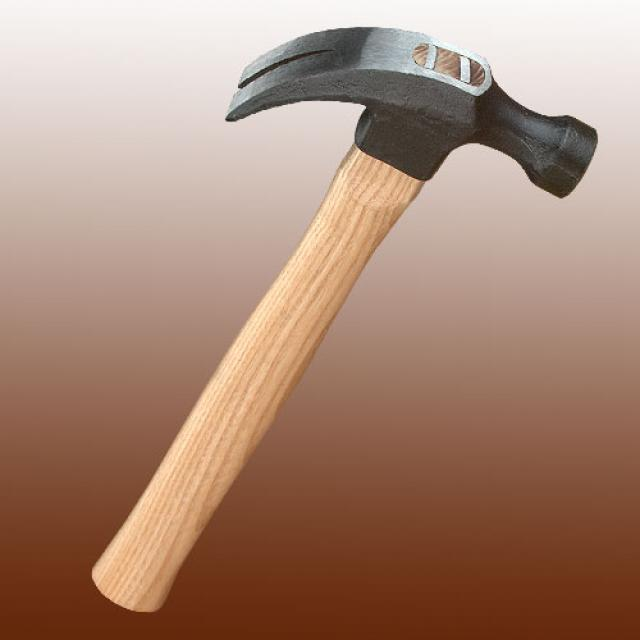hammer: (71, 20, 607, 628)
